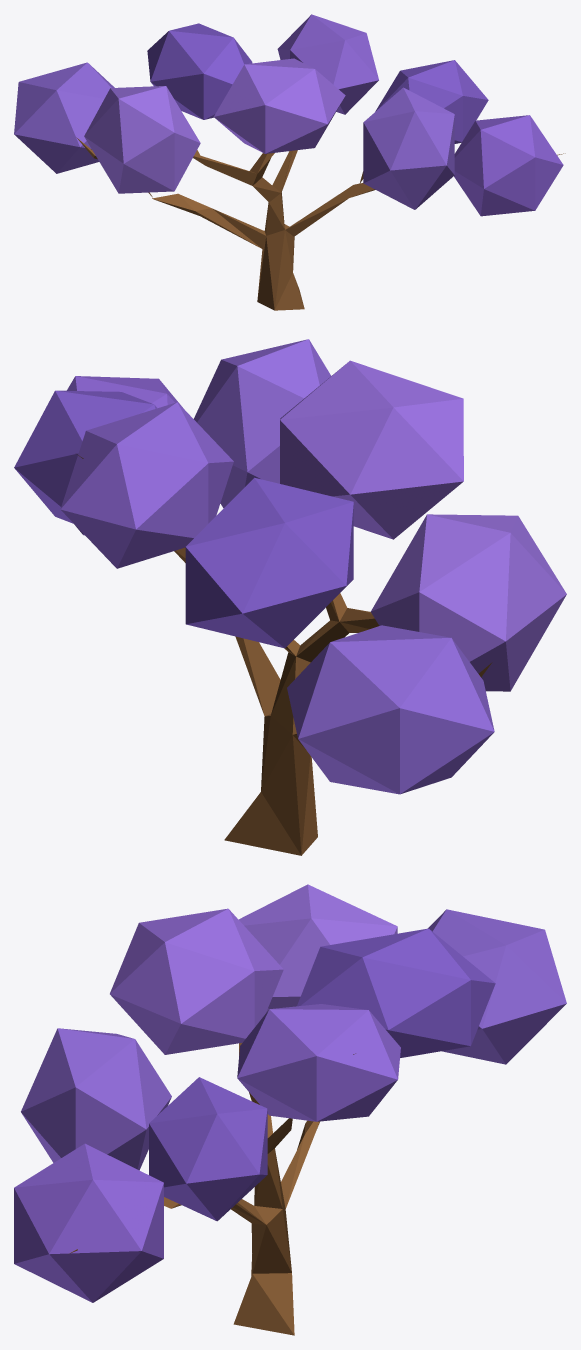
File: jacaranda_2_bloom_far.glb
The picture shows the model from 3 angles, top to bottom: view 1: azimuth 30°, elevation 25°; view 2: azimuth 150°, elevation 25°; view 3: azimuth 270°, elevation 25°; orthographic projection. The views are drawn at different scales.
Parts seen in each view (by area): view 1: jacaranda_2_bloom_far; view 2: jacaranda_2_bloom_far; view 3: jacaranda_2_bloom_far.
Boxes of the visible parts, x1,y1,x2,y2 form: jacaranda_2_bloom_far: (14,14,565,310); jacaranda_2_bloom_far: (14,339,566,855); jacaranda_2_bloom_far: (14,884,566,1335).
Bounding box in the file's own units: 9.88 × 5.99 × 8.06.
